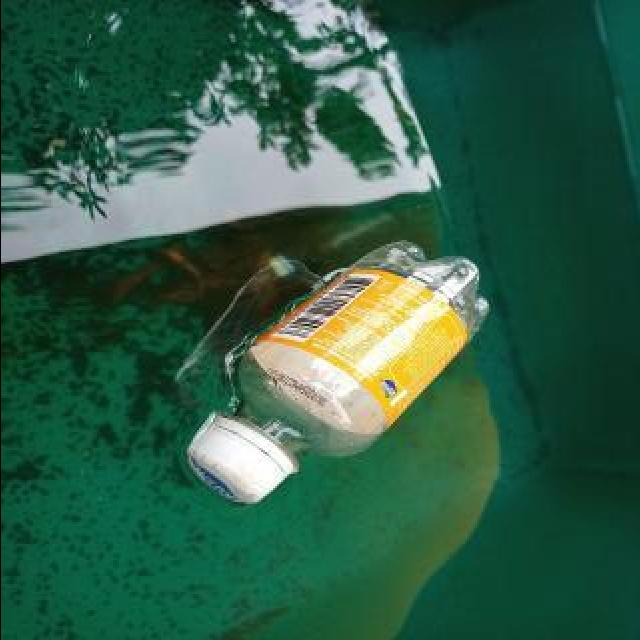Bottle: (178, 232, 496, 514)
